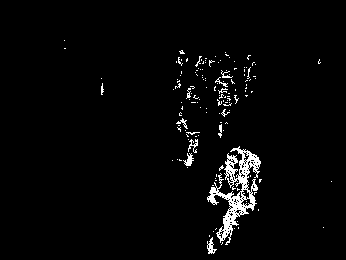person: (176, 82, 207, 170), (211, 67, 240, 134), (238, 53, 258, 98)
